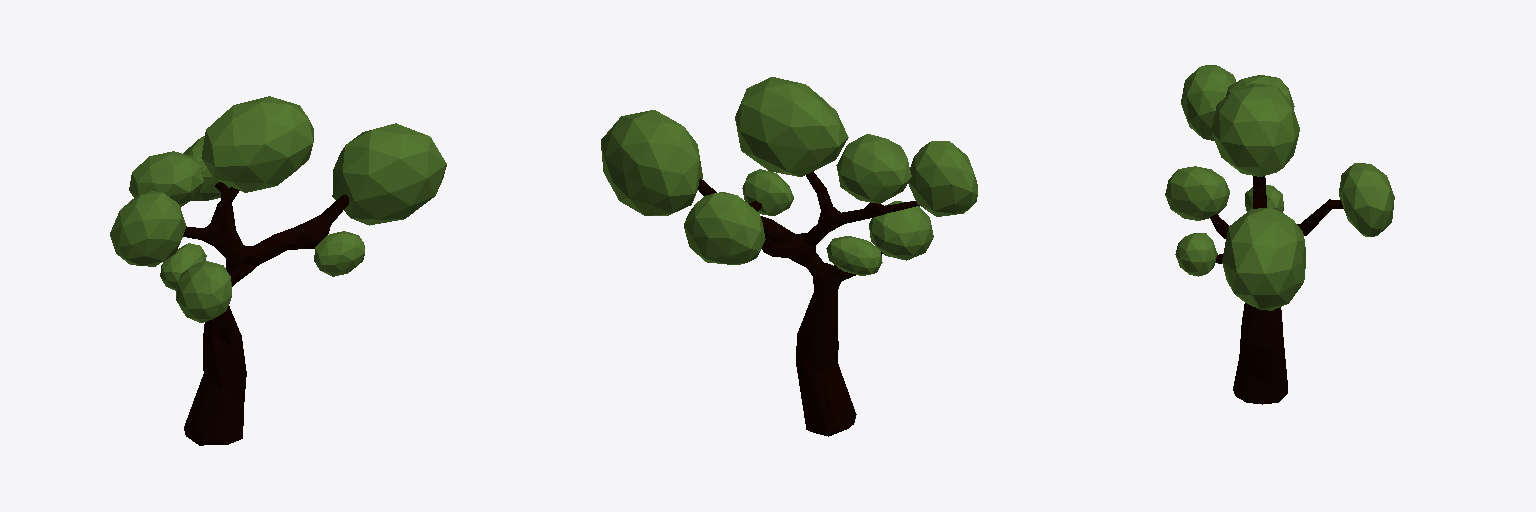
3 views of the same model, side by side, from view 1: azimuth 30°, elevation 25°; view 2: azimuth 150°, elevation 25°; view 3: azimuth 270°, elevation 25° (orthographic).
Bounding box in the file's own units: 11.42 × 10.29 × 6.48.
2 materials, 1 textured.